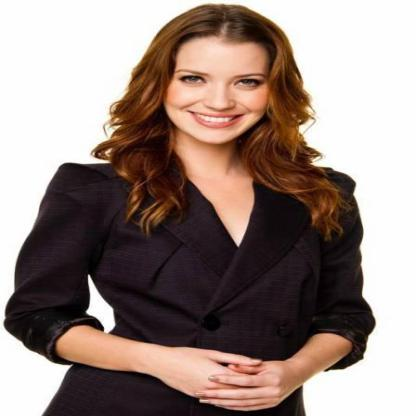long-hair: (89, 143, 343, 187)
